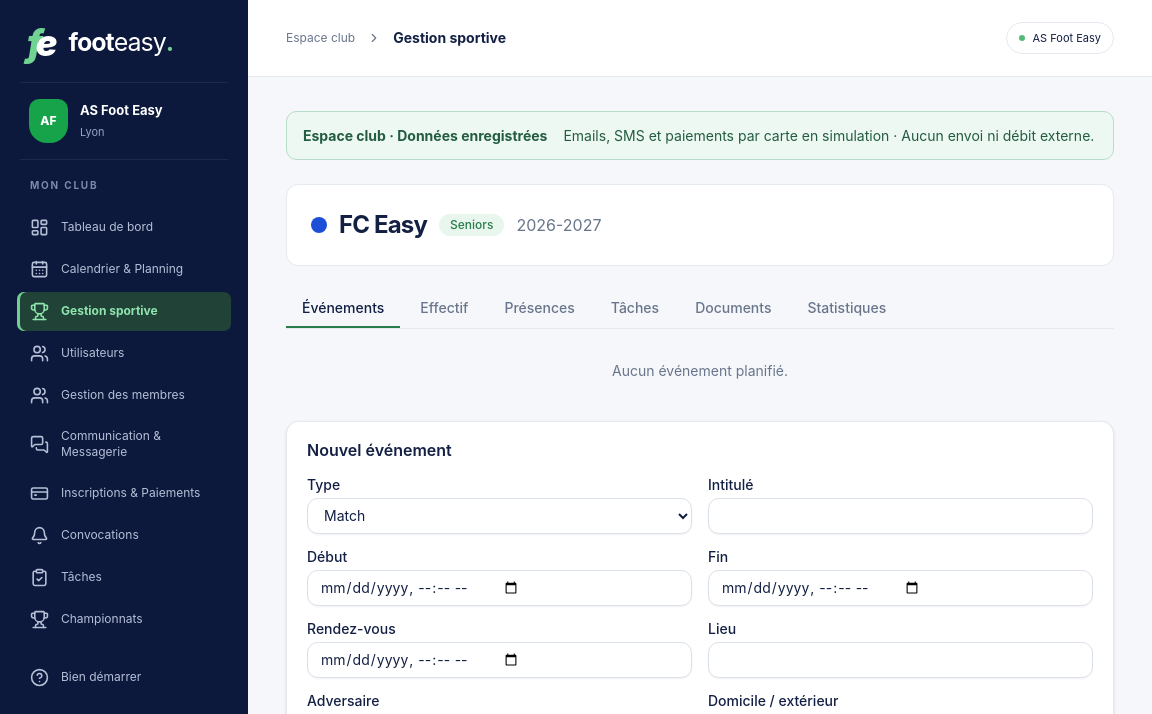
Test: Club management workflows › creates a custom team task
The image size is (1152, 714).
Click the tab "Tâches": (635,309) left=595, top=290, right=675, bottom=328
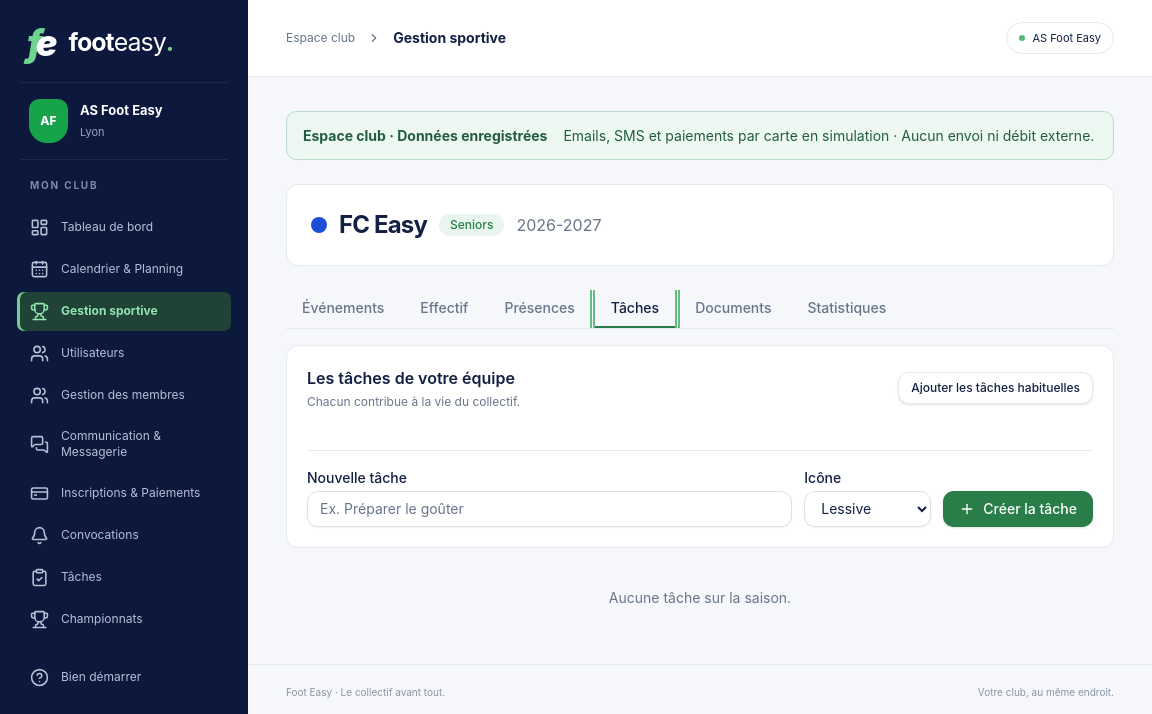
In the field labelled "Nouvelle tâche": (550,509) left=307, top=491, right=792, bottom=527, type "Préparer le goûter"
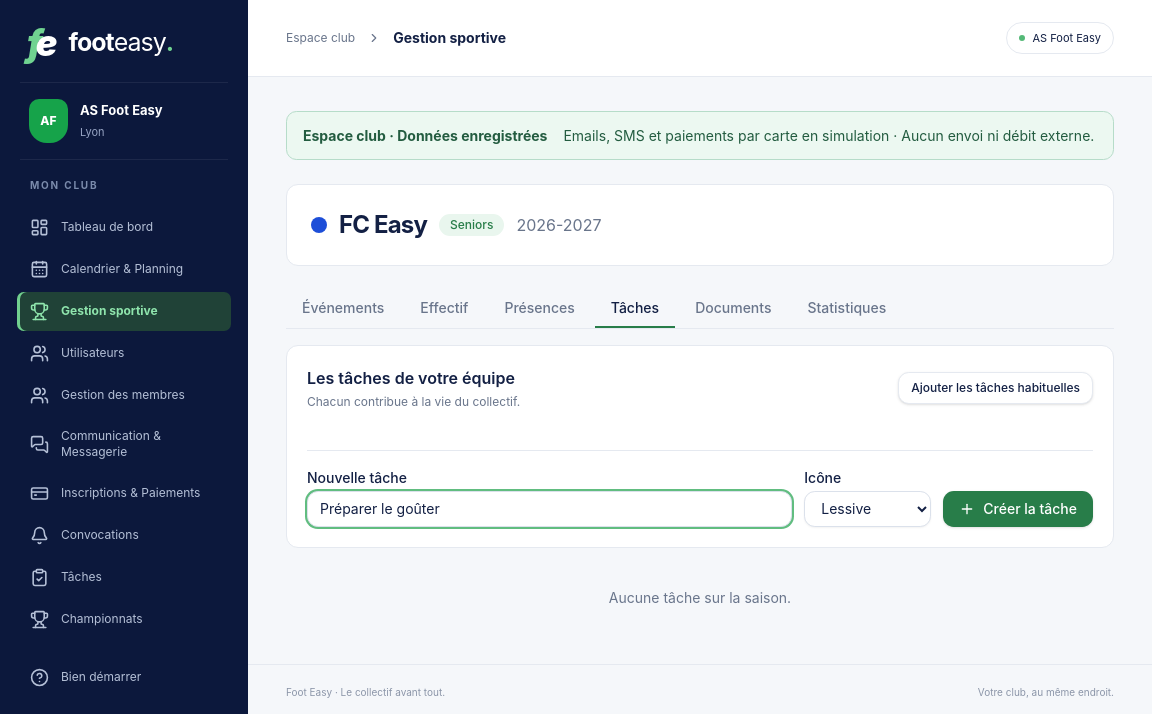
Select "Repas" in the dropdown labelled "Icône": (868,509) left=804, top=491, right=931, bottom=527
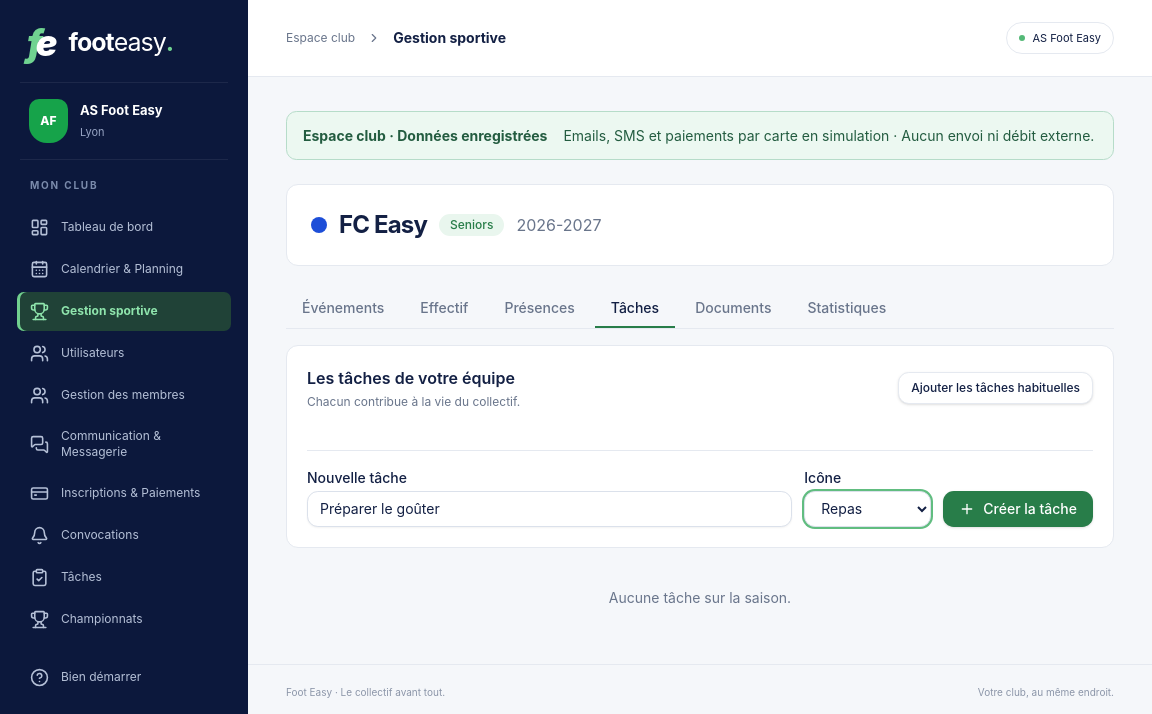
Click the button "Créer la tâche": (1018,509) left=943, top=491, right=1093, bottom=527
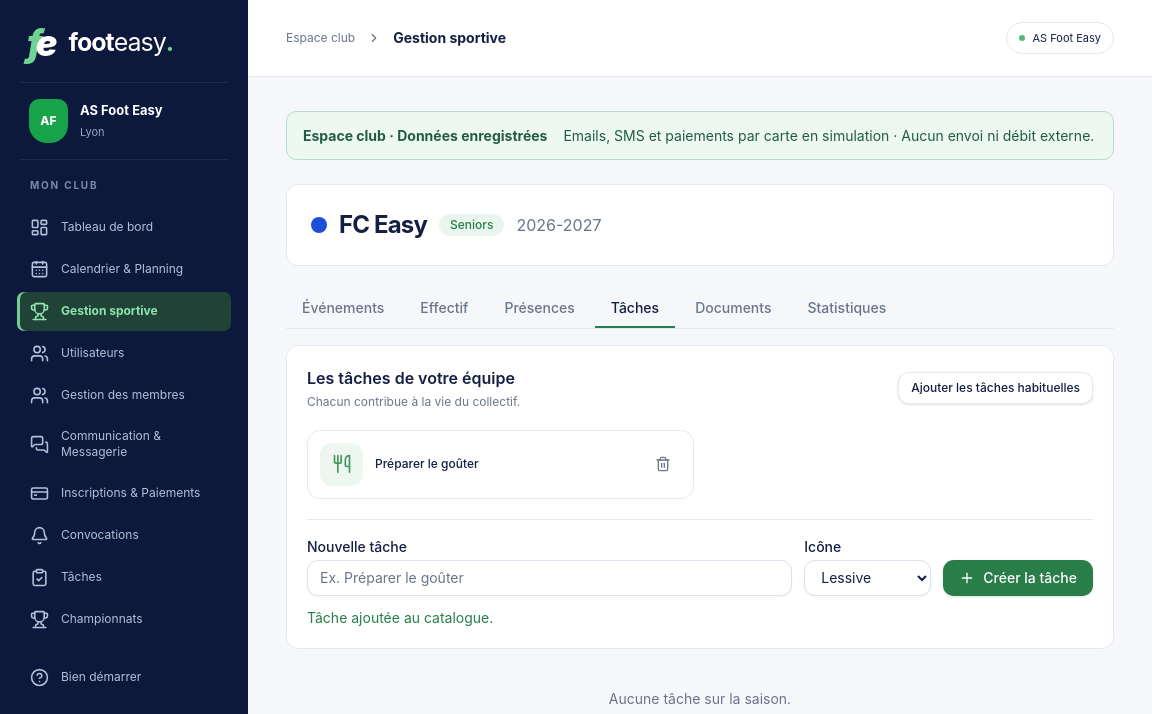
Check: the text "Préparer le goûter" is shown, box left=375, top=456, right=479, bottom=471
